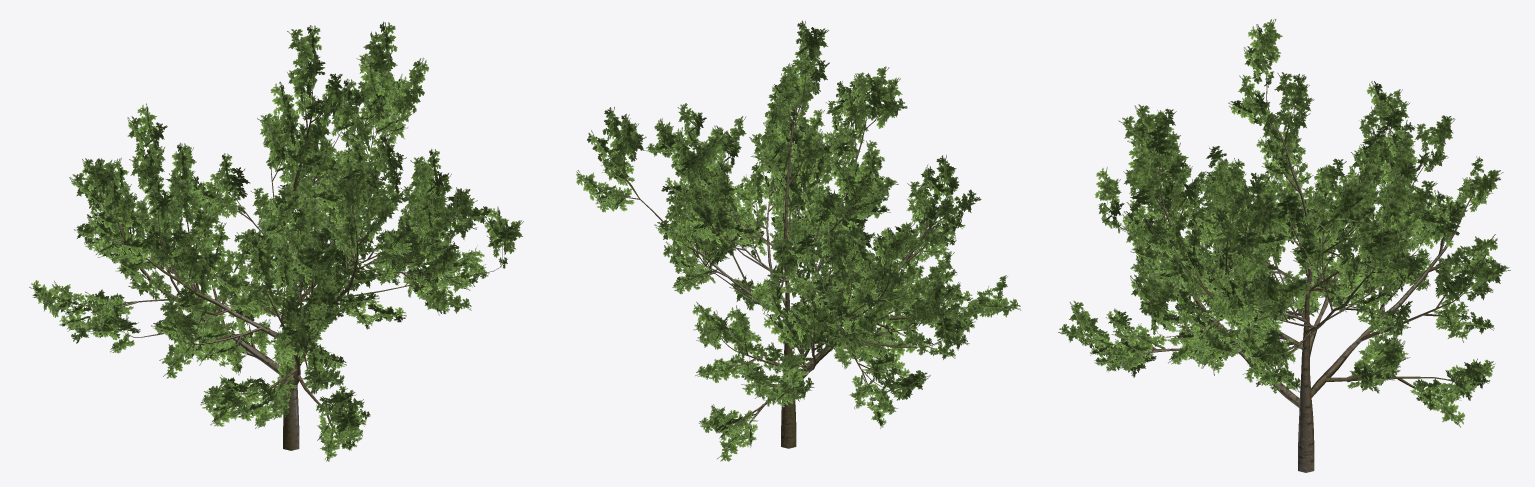
File: teak-a.glb
3 renders of one model, left to right at view 1: azimuth 30°, elevation 25°; view 2: azimuth 150°, elevation 25°; view 3: azimuth 270°, elevation 25°, orthographic. The views are drawn at different scales.
Visible parts, largest first — view 1: Tree; view 2: Tree; view 3: Tree.
Part boxes in pixels (x1=…): Tree: x1=29, y1=21, x2=523, y2=461; Tree: x1=576, y1=20, x2=1020, y2=461; Tree: x1=1058, y1=19, x2=1510, y2=472.
Size of the model in its own units: 20.76 by 22 by 20.62.
Materials: 2 (2 with a texture image).
